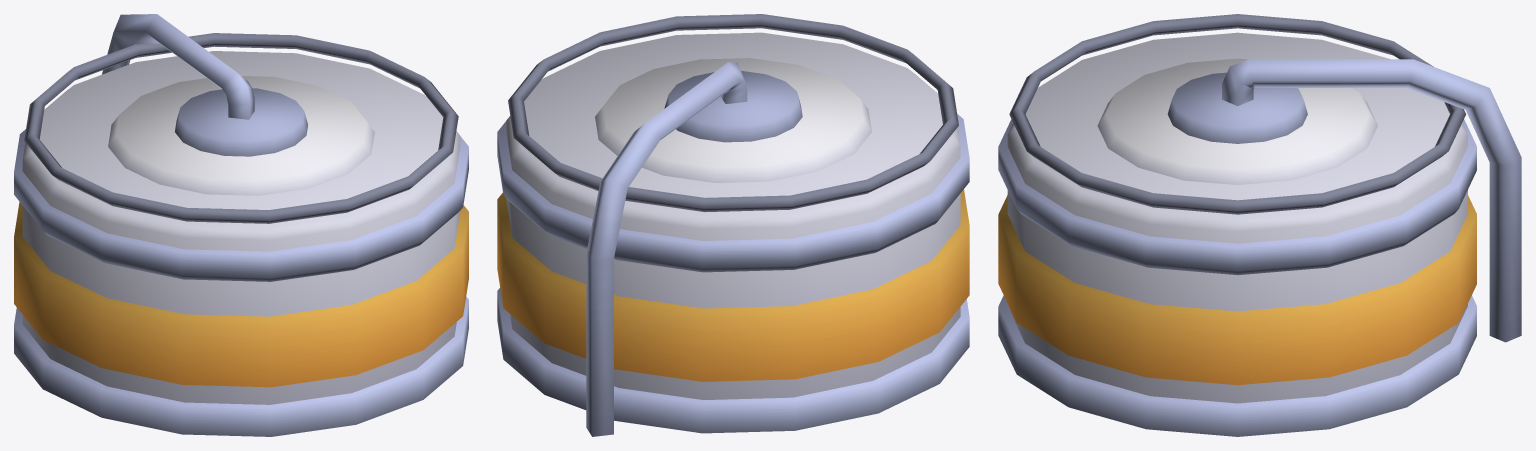
Rendered from grain_bin.glb.
The picture shows the model from 3 angles, left to right: view 1: azimuth 30°, elevation 25°; view 2: azimuth 150°, elevation 25°; view 3: azimuth 270°, elevation 25°; orthographic projection. The views are drawn at different scales.
Parts seen in each view (by area): view 1: detail-tank-large; view 2: detail-tank-large; view 3: detail-tank-large.
Part boxes in pixels (box(x1,y1,x2,y2)): detail-tank-large: box(14, 14, 468, 436); detail-tank-large: box(497, 14, 969, 436); detail-tank-large: box(998, 14, 1521, 436).
Size of the model in its own units: 1.51 by 0.9616 by 1.65.
1 material, 1 textured.
